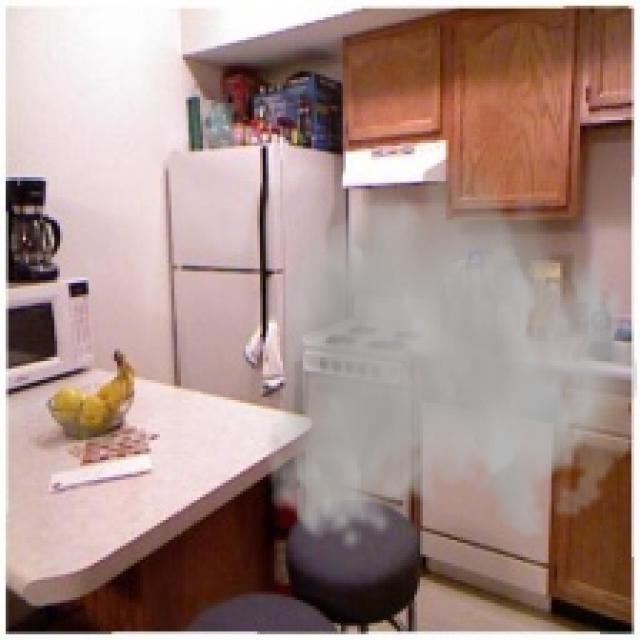Smoke: (266, 139, 638, 552)
